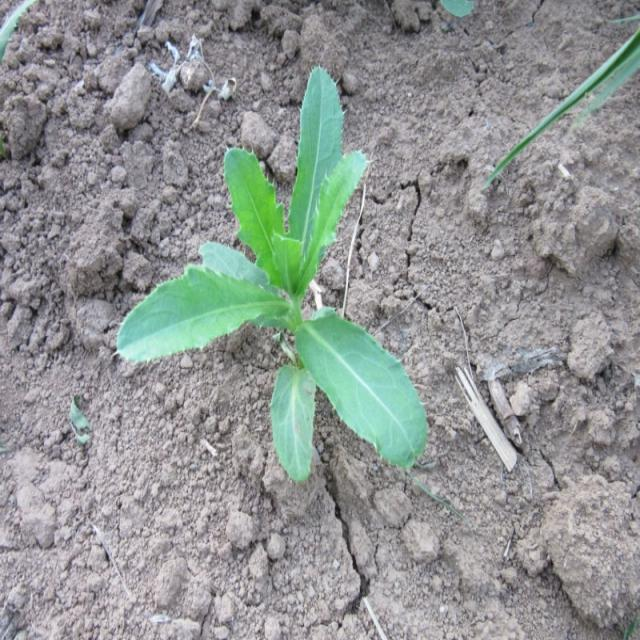cs: (115, 63, 435, 485)
